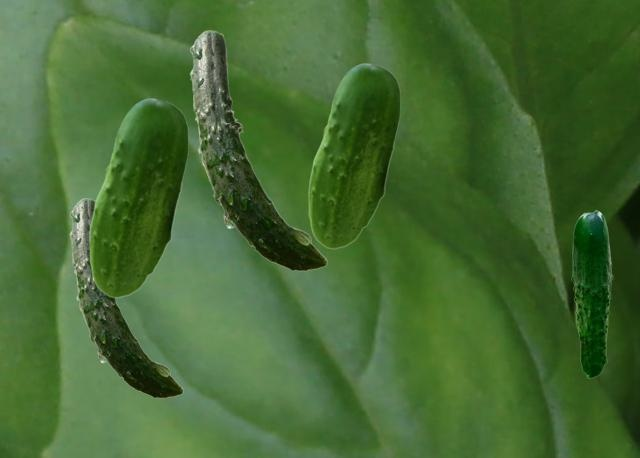cucumber: (189, 30, 326, 270), (69, 198, 182, 397), (89, 98, 187, 297), (308, 63, 399, 248), (571, 210, 612, 377)
